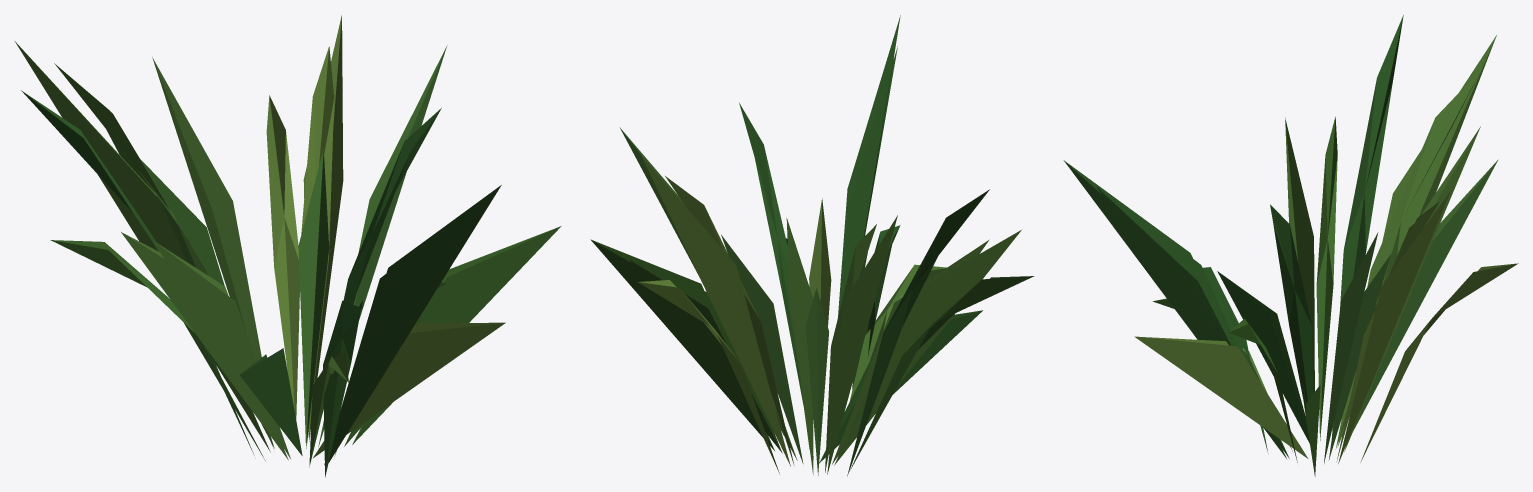
File: sg-grass-tuft.glb
3 renders of one model, left to right at view 1: azimuth 30°, elevation 25°; view 2: azimuth 150°, elevation 25°; view 3: azimuth 270°, elevation 25°, orthographic. The views are drawn at different scales.
Visible parts, largest first — view 1: lod0_blades, lod1_blades; view 2: lod0_blades, lod1_blades; view 3: lod0_blades, lod1_blades.
Part boxes in pixels (x1,y1,x2,y2): lod0_blades: (21, 45, 505, 477); lod1_blades: (15, 15, 561, 462); lod0_blades: (619, 46, 1034, 476); lod1_blades: (590, 15, 1021, 474); lod0_blades: (1096, 15, 1518, 463); lod1_blades: (1063, 35, 1496, 476).
Size of the model in its own units: 0.3606 by 0.27 by 0.3254.
